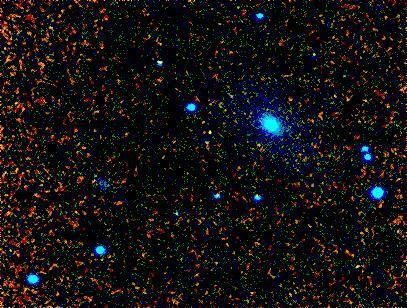star: (197, 114, 227, 144)
